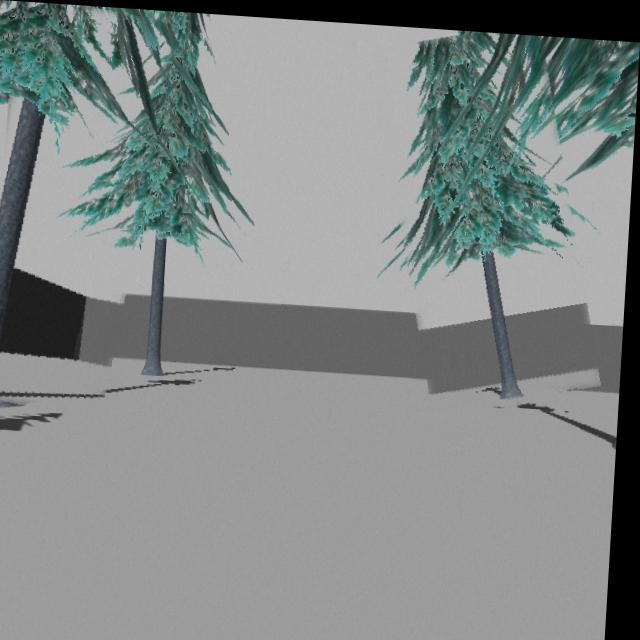tree: (403, 25, 578, 392), (0, 1, 160, 397)
